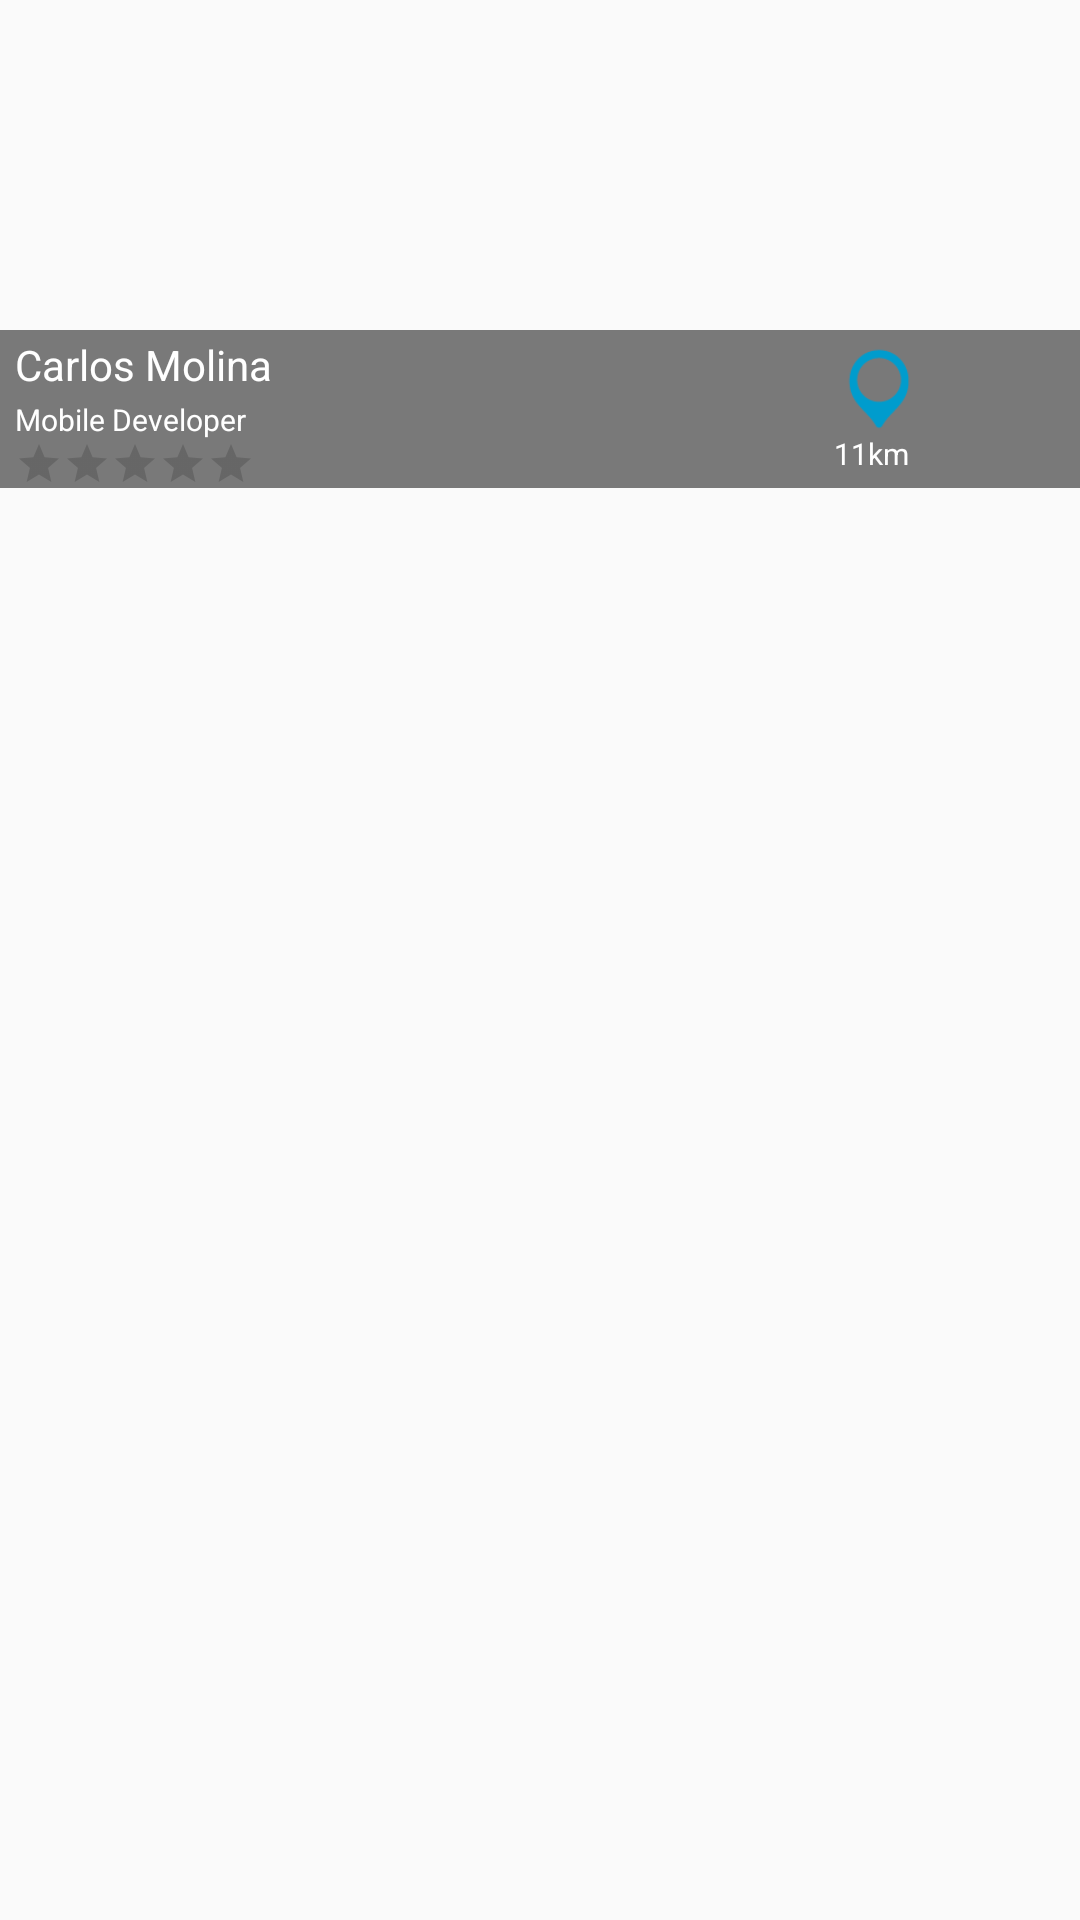

Screen size 1080 x 1920. Icon name, then its center in pixels as [x,y]:
pin: [879,388]
